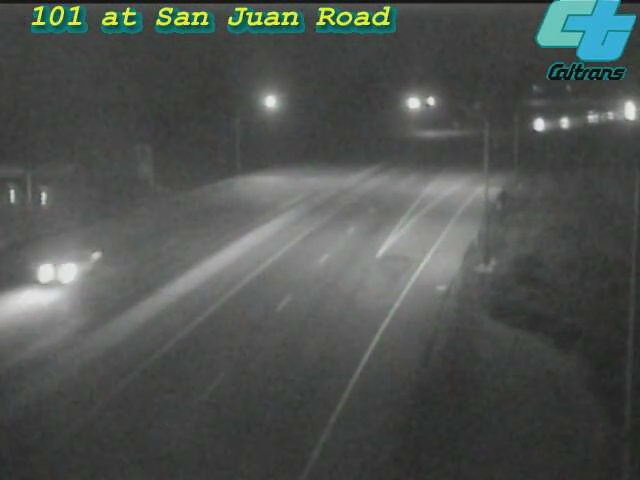vehicle: (8, 232, 88, 312), (586, 91, 636, 141), (567, 92, 617, 142), (542, 98, 592, 148), (511, 101, 561, 151), (598, 90, 640, 140), (604, 86, 640, 136)
